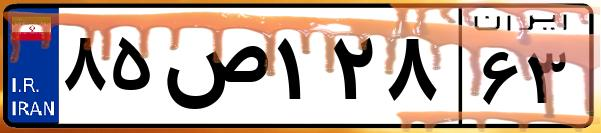1: (270, 28, 330, 110)
2: (330, 28, 385, 110)
3: (525, 38, 570, 115)
5: (110, 28, 158, 98)
6: (475, 38, 525, 113)
8: (385, 28, 445, 110), (57, 26, 110, 100)
ص: (158, 20, 270, 120)
